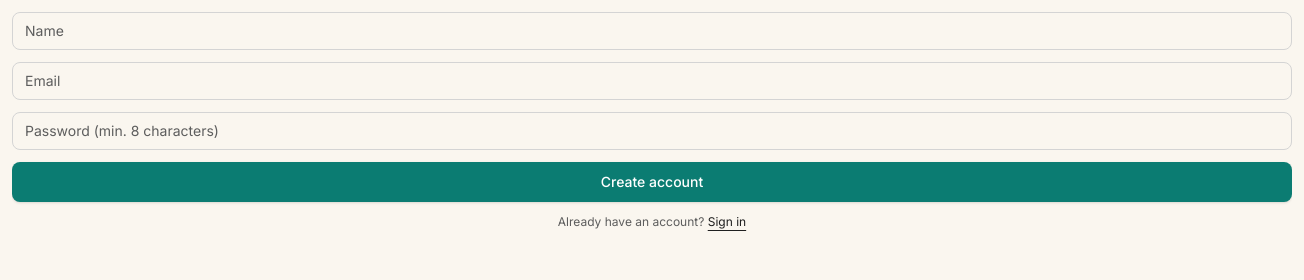
Test: SignupForm › surfaces the API message on failure
The image size is (1304, 280).
Step 1. Type "Marcus" into the field with placeholder "Name" → coordinates (652, 31), box left=12, top=12, right=1292, bottom=50
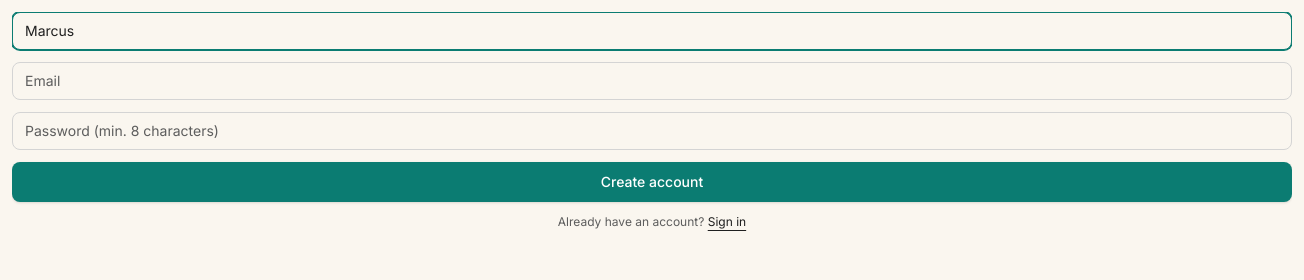
Step 2. Type "marcus@b.test" into the field with placeholder "Email" → coordinates (652, 81), box left=12, top=62, right=1292, bottom=100
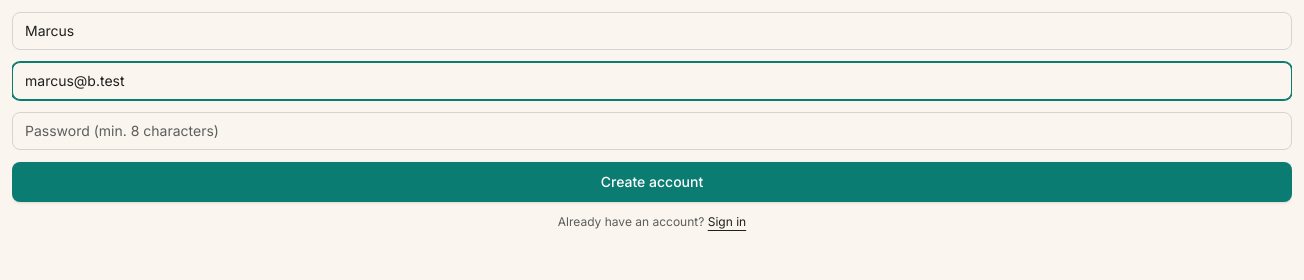
Step 3. Type "longenough1" into the password field with placeholder "Password (min. 8 characters)" → coordinates (652, 131), box left=12, top=112, right=1292, bottom=150
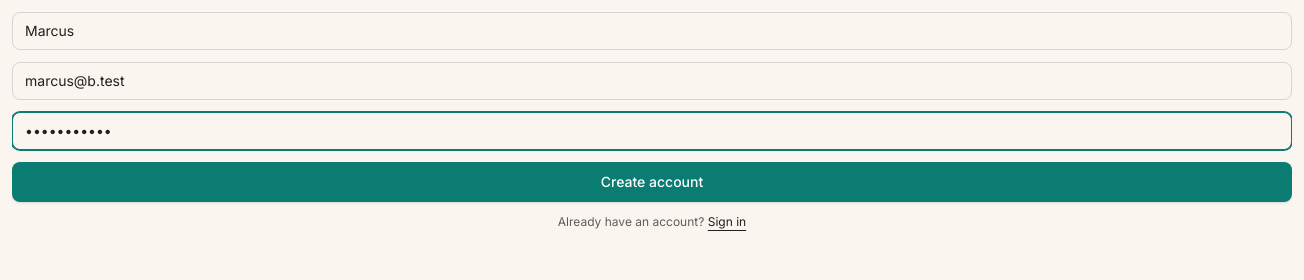
Step 4. Click the button "Create account" → coordinates (652, 182), box left=12, top=162, right=1292, bottom=202
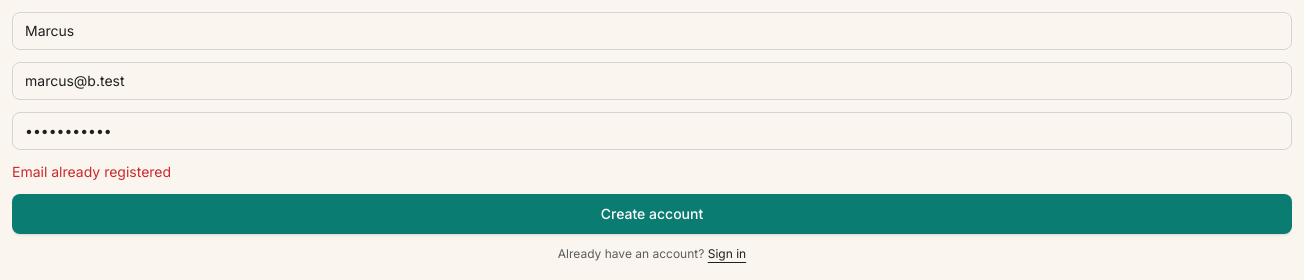
Now the text "Email already registered" is shown, box left=12, top=163, right=171, bottom=180
